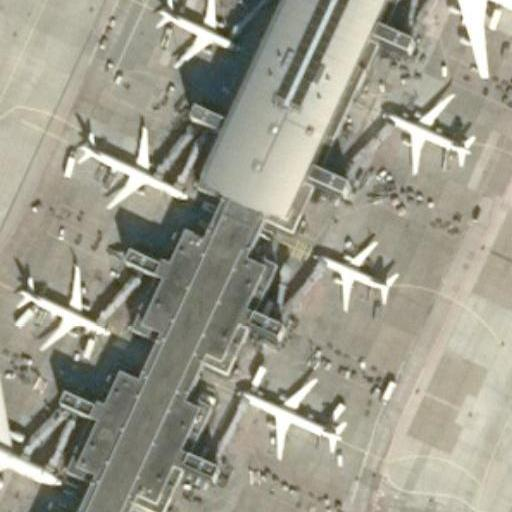Aircraft: (64, 122, 194, 214), (66, 119, 188, 211), (234, 366, 349, 458), (15, 256, 115, 355), (236, 371, 346, 460), (374, 89, 480, 178), (11, 263, 113, 352), (396, 0, 512, 78), (378, 89, 477, 176), (401, 0, 512, 76), (309, 229, 401, 313), (0, 380, 63, 494), (0, 383, 64, 494), (312, 234, 401, 311), (144, 0, 242, 69), (150, 0, 238, 69)
